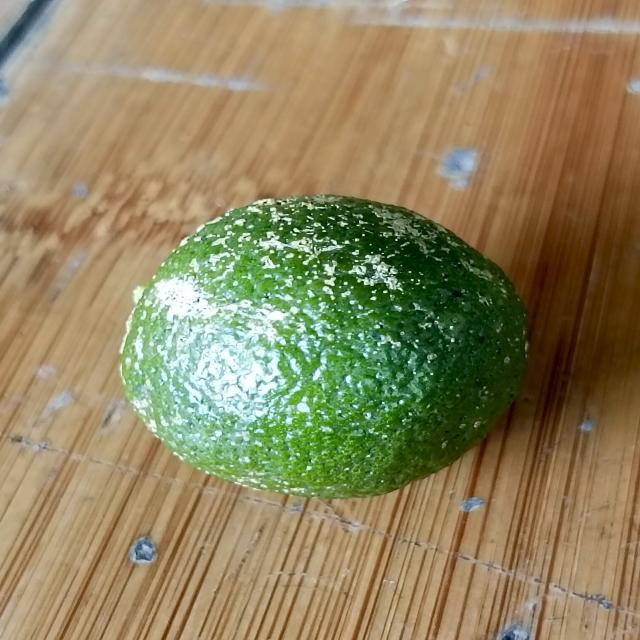scab: (117, 178, 532, 496)
